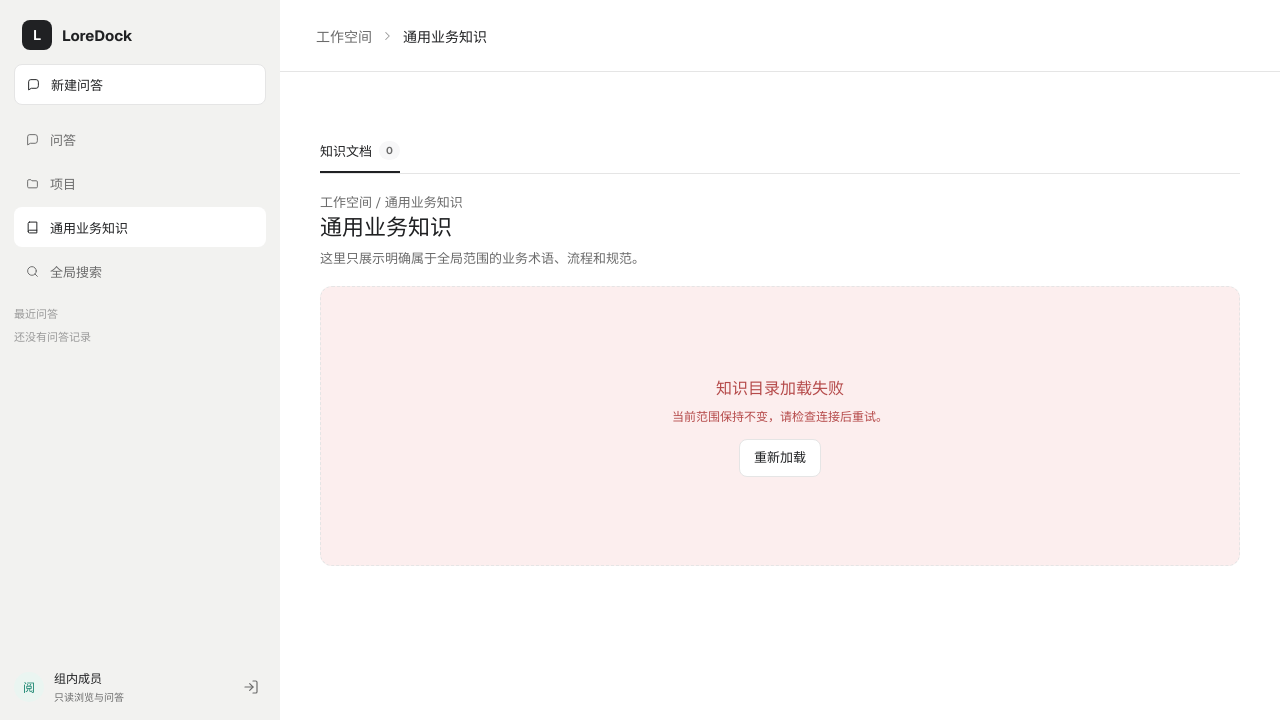
Scenario: KnowledgeWorkspaceView › recovers from a global browse failure into an empty state
Expected: the message "知识目录加载失败 当前范围保持不变，请检查连接后重试。 重新加载" is shown, [320,286,1240,566]
Click the button with test id "retry-knowledge": (780, 458) [739,439,821,477]
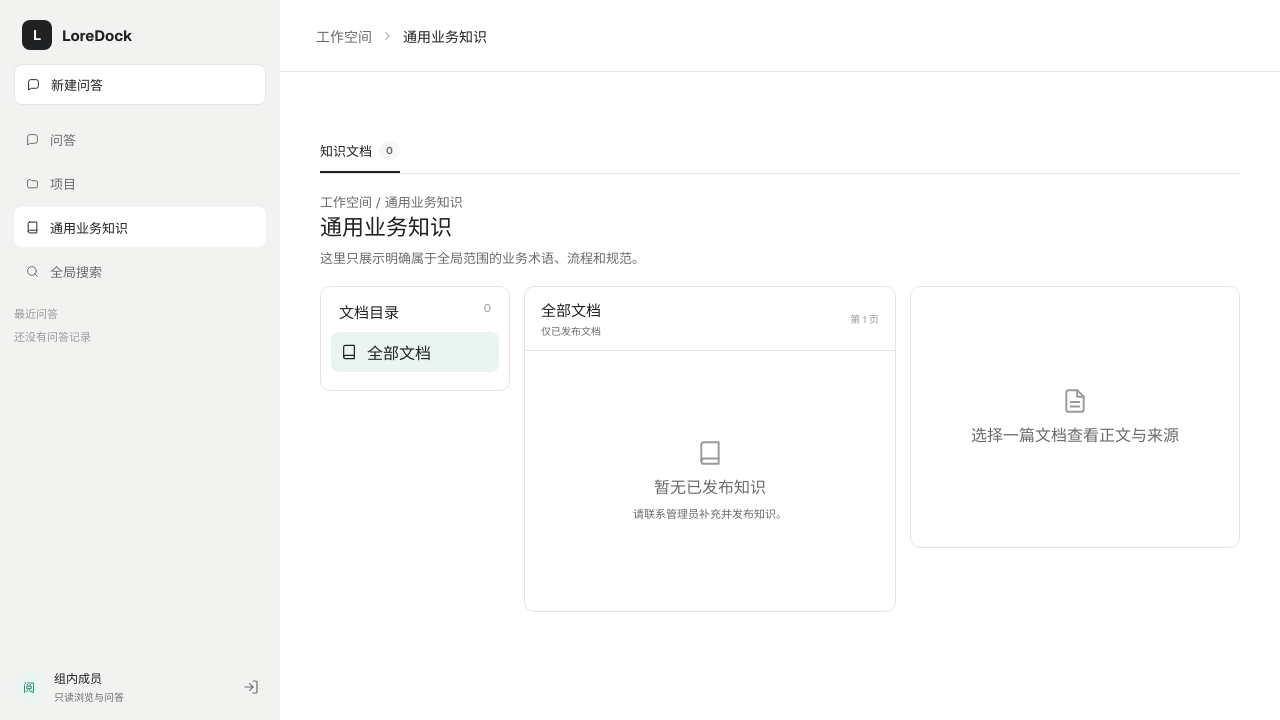
Result: the element with test id "knowledge-empty" shows "暂无已发布知识" at [654,476,766,498]
